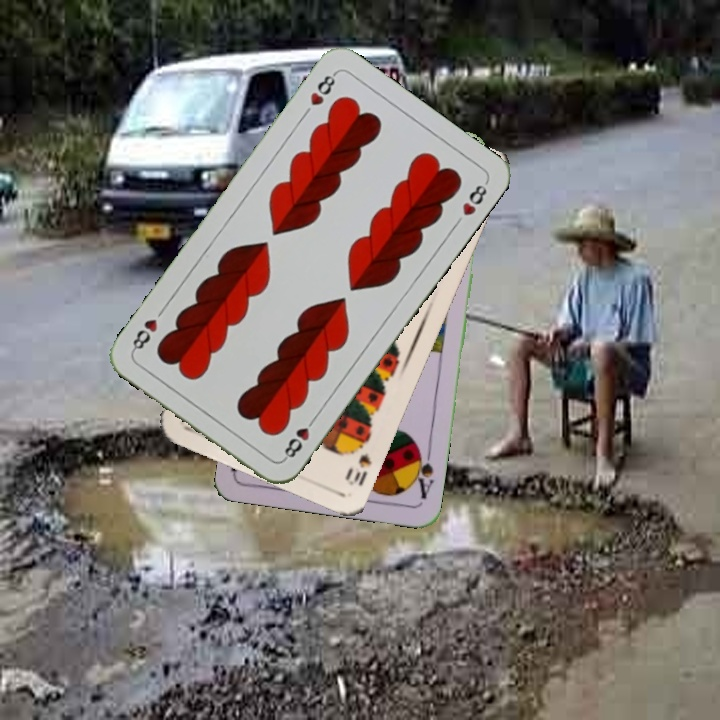H8: (279, 412, 319, 463), (306, 68, 339, 109)
S10: (340, 435, 374, 489)
SA: (408, 442, 437, 502)
